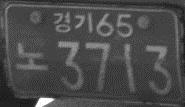1: (117, 43, 142, 93)
3: (144, 44, 173, 97), (56, 39, 84, 91)
5: (116, 12, 133, 37)
6: (95, 12, 113, 37)
7: (85, 41, 110, 92)
경기_O: (52, 12, 93, 32)
노: (15, 42, 47, 71)
